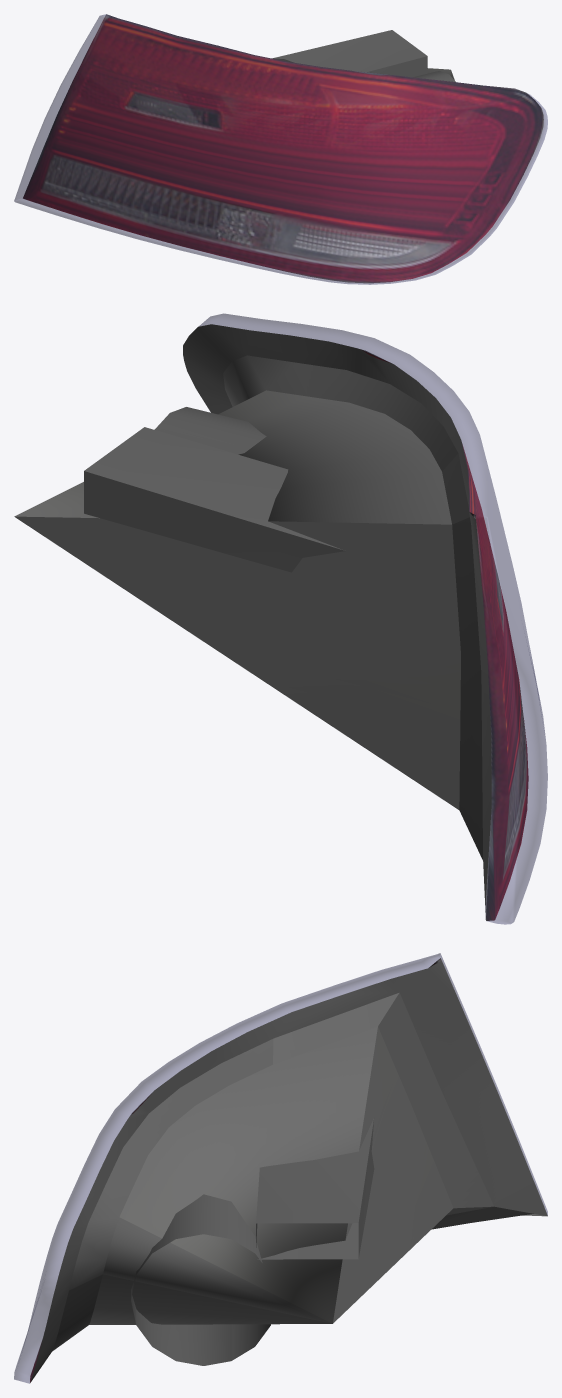
3 views of the same model, one above another, from view 1: azimuth 30°, elevation 25°; view 2: azimuth 150°, elevation 25°; view 3: azimuth 270°, elevation 25° (orthographic). The views are drawn at different scales.
Visible parts, largest first — view 1: _4136_17_541C_R__4136_17_541C_R_1_DTaSI, _4136_17_541C_R_2_D__4136_17_541C_R, _4136_17_541C_R__4136_17_541C_R_3_D; view 2: _4136_17_541C_R__4136_17_541C_R_3_D, _4136_17_541C_R__4136_17_541C_R_1_DTaSI, _4136_17_541C_R_2_D__4136_17_541C_R; view 3: _4136_17_541C_R__4136_17_541C_R_3_D, _4136_17_541C_R__4136_17_541C_R_1_DTaSI.
Boxes of the visible parts, <box> form: _4136_17_541C_R__4136_17_541C_R_1_DTaSI: <box>14,14,547,284</box>; _4136_17_541C_R_2_D__4136_17_541C_R: <box>23,14,543,283</box>; _4136_17_541C_R__4136_17_541C_R_3_D: <box>107,15,455,81</box>; _4136_17_541C_R__4136_17_541C_R_3_D: <box>14,324,491,919</box>; _4136_17_541C_R__4136_17_541C_R_1_DTaSI: <box>199,313,547,924</box>; _4136_17_541C_R_2_D__4136_17_541C_R: <box>361,349,528,920</box>; _4136_17_541C_R__4136_17_541C_R_3_D: <box>30,959,547,1382</box>; _4136_17_541C_R__4136_17_541C_R_1_DTaSI: <box>14,953,547,1383</box>.
Size of the model in its own units: 32.04 by 17.11 by 28.15.
